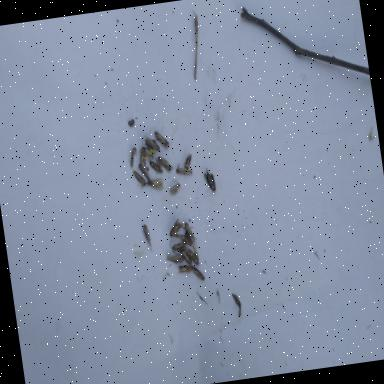pbw: (202, 165, 216, 193), (184, 220, 198, 248), (130, 168, 146, 190), (154, 128, 170, 150), (186, 243, 200, 268), (164, 249, 184, 265), (174, 160, 194, 176), (136, 161, 151, 182), (136, 145, 150, 167), (170, 237, 188, 254), (142, 222, 152, 252), (144, 134, 160, 152), (156, 154, 172, 172), (145, 177, 165, 191), (149, 156, 163, 175), (174, 260, 193, 274), (180, 247, 192, 266), (168, 179, 182, 195), (192, 264, 205, 281), (128, 146, 138, 167), (180, 232, 194, 246), (182, 152, 193, 169)
